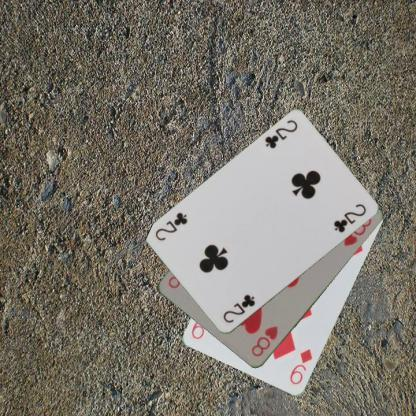2c: (262, 118, 300, 150), (220, 292, 257, 324)
8h: (248, 323, 280, 358)
9d: (287, 346, 314, 387)
